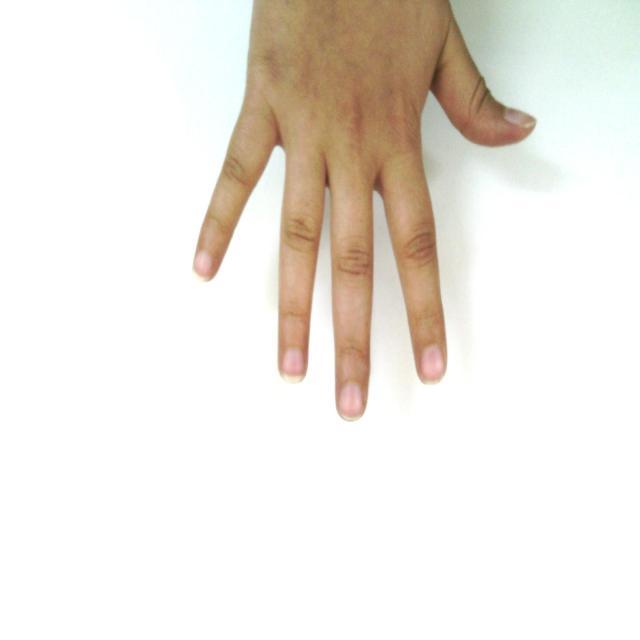Fingernail: (340, 383, 363, 421), (421, 346, 444, 383), (282, 349, 304, 381), (504, 108, 536, 128), (195, 253, 213, 277)
